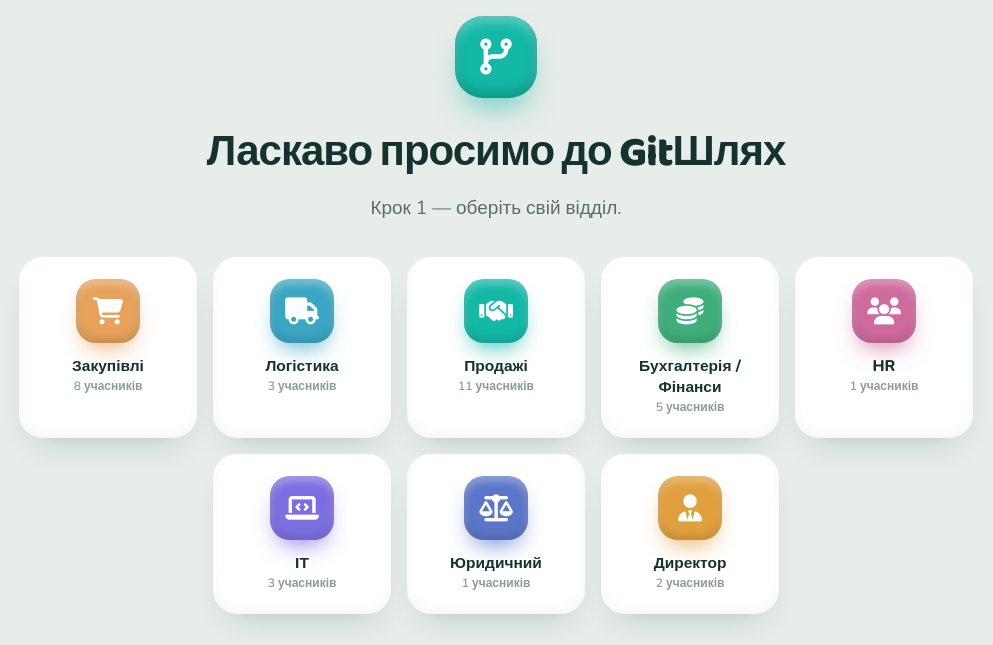
Scenario: Екран входу — крок 1 (відділ) → крок 2 (ПІБ) › відділ «Продажі» містить нових учасників
The image size is (993, 645).
Click the text "Продажі". click: (496, 366)
box: 464,355 -> 528,376
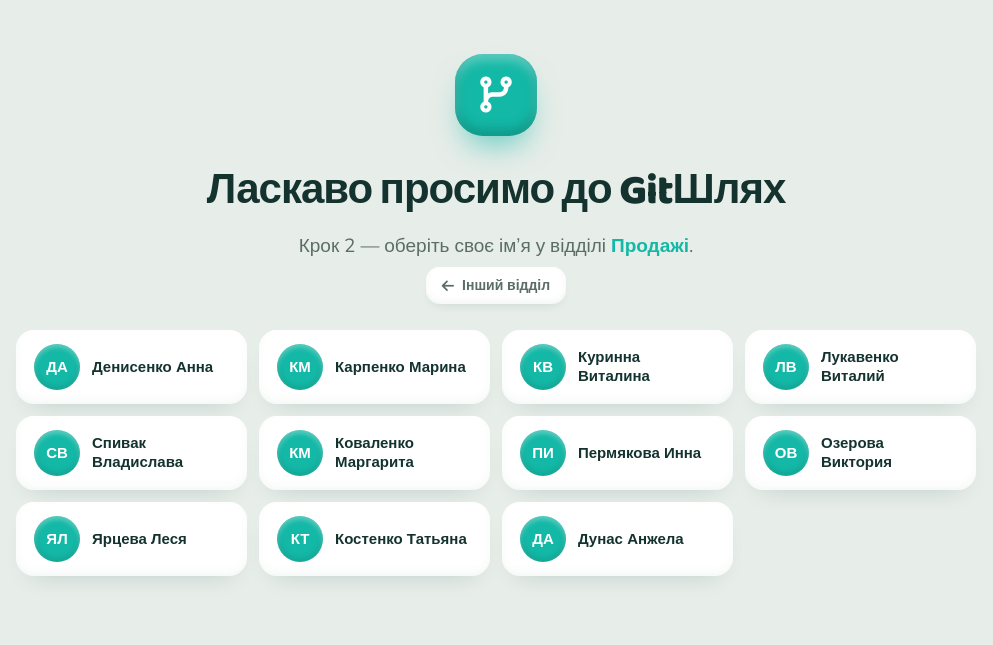
Check: the text "Костенко Татьяна" is shown, box 335,530 -> 467,548
Check: the text "Дунас Анжела" is shown, box 578,530 -> 684,548
